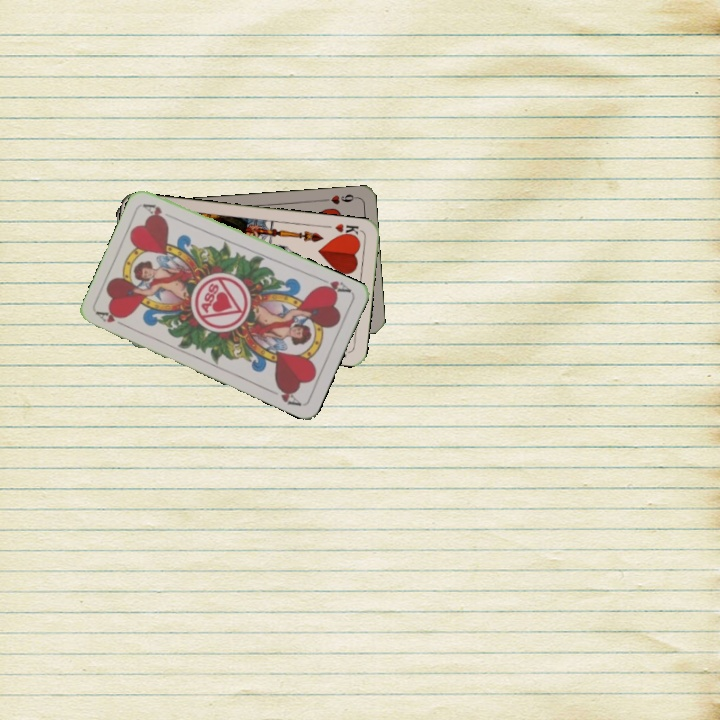H9: (319, 190, 360, 207)
HA: (93, 306, 132, 330), (314, 275, 354, 297)
HK: (331, 219, 361, 241)
